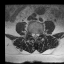CCS_normal: (34, 31, 36, 40)
LFS_normal: (38, 30, 41, 37)
LLS_normal: (36, 31, 38, 39)
RFS_normal: (30, 30, 32, 37)
RLS_normal: (32, 31, 34, 39)
